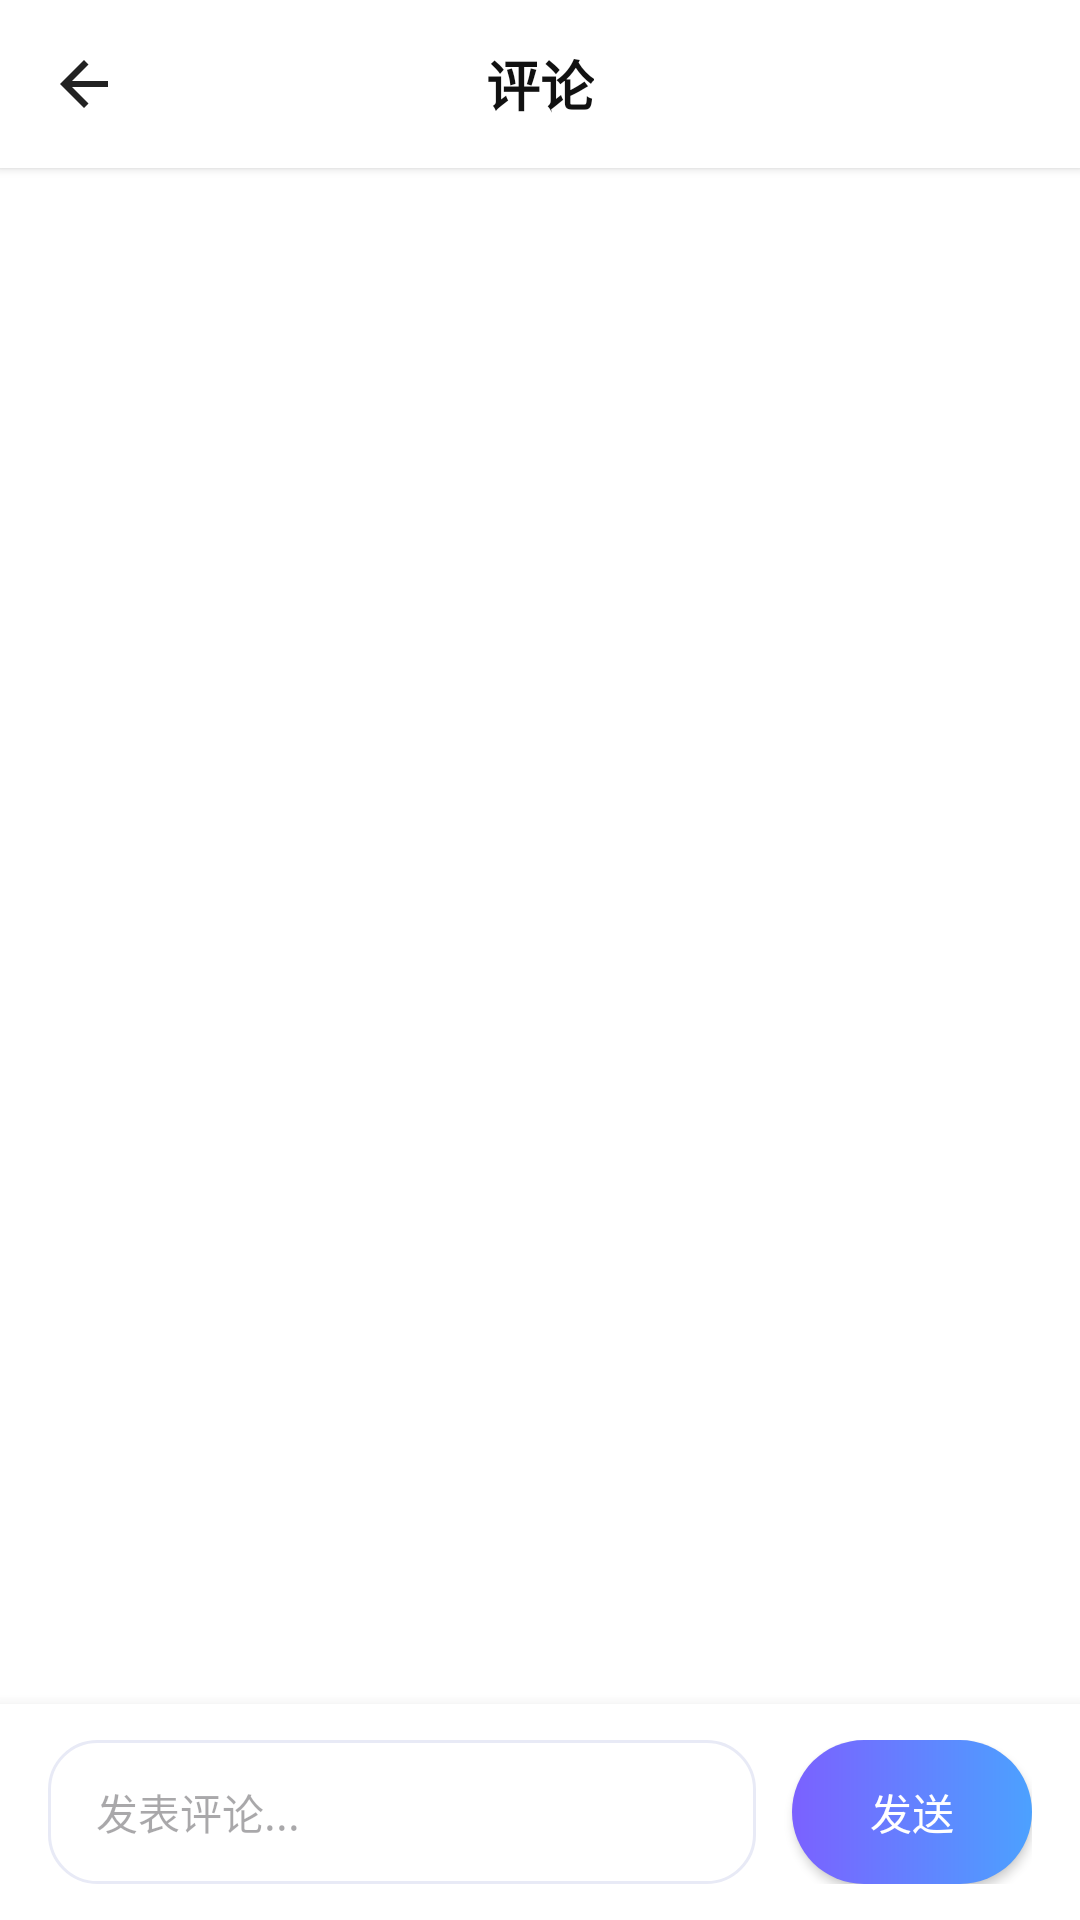

Named icons in this screenshot (1080px×1920px) and their centers, [x,y]:
返回上一页: [84,84]
